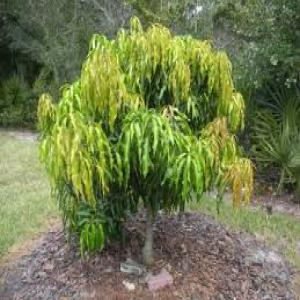Tree: (35, 10, 251, 270)
